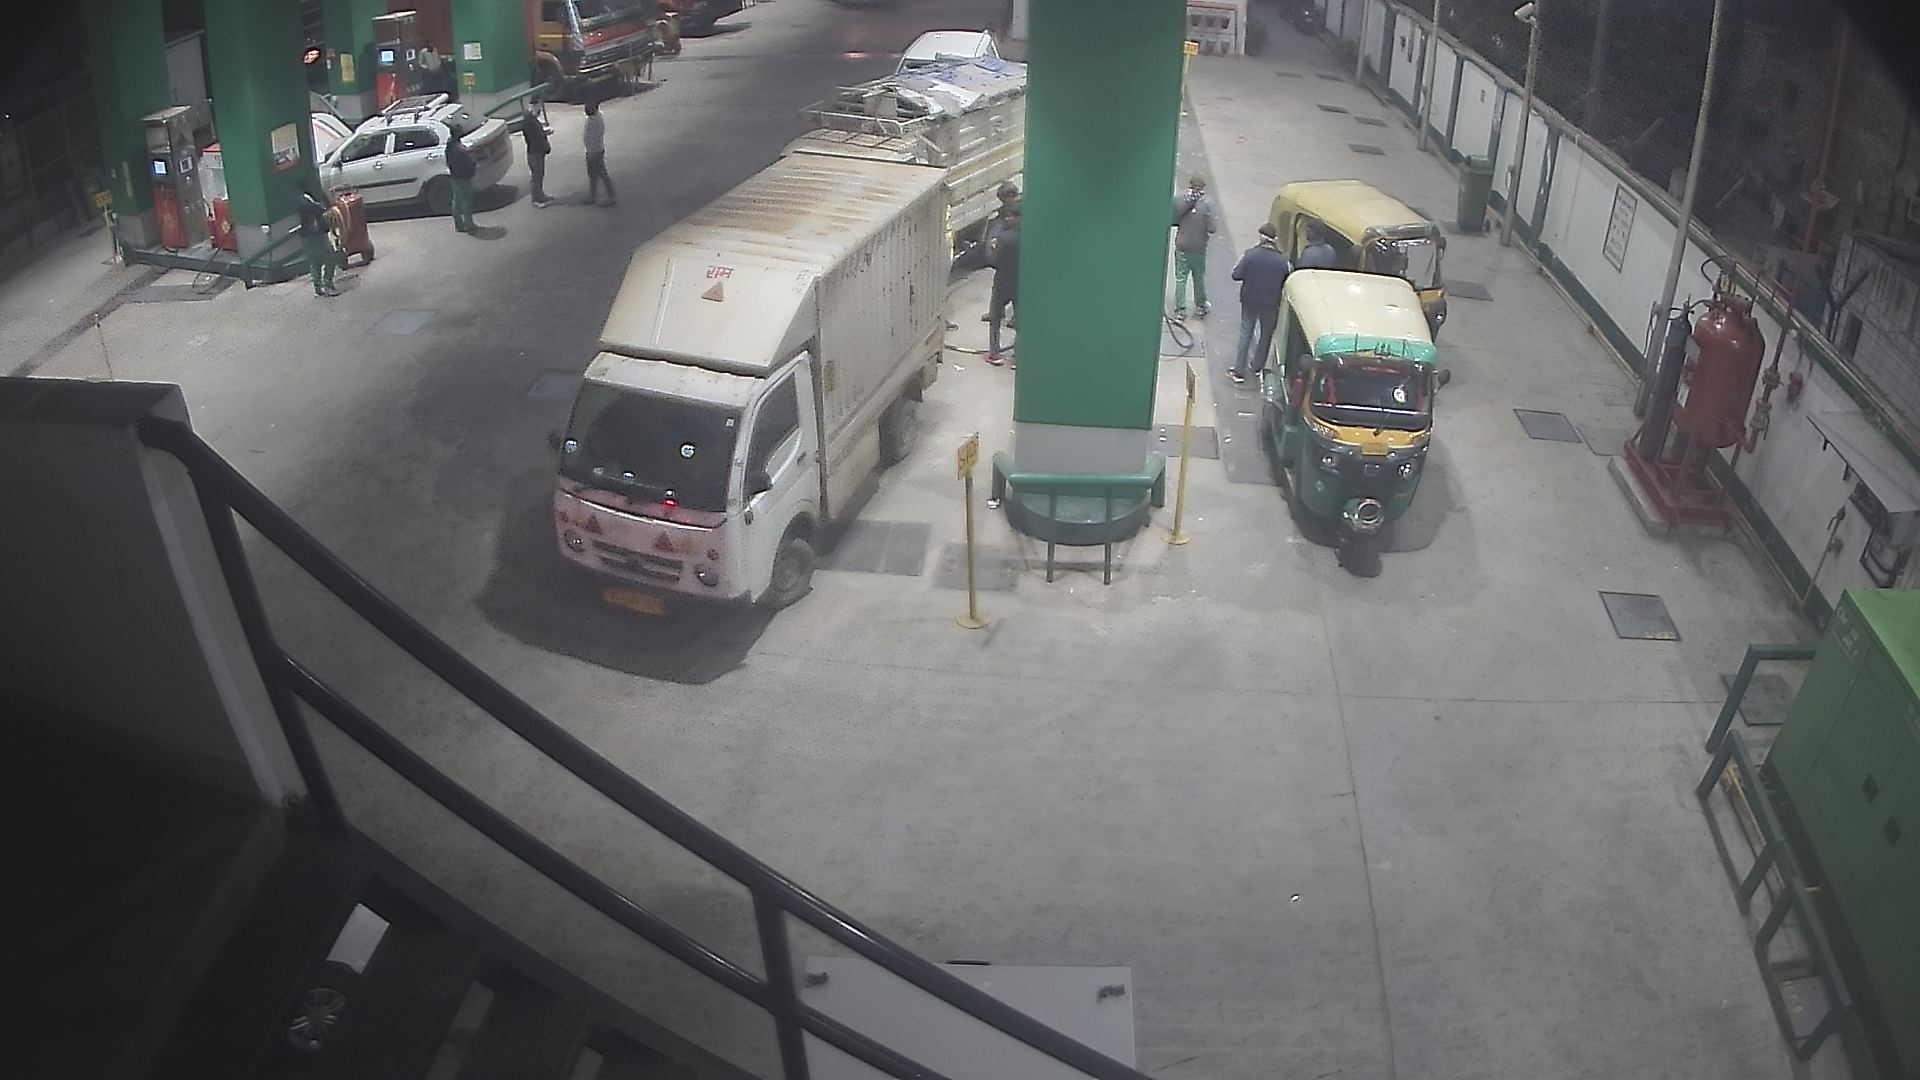Auto: (1245, 255, 1456, 580), (1259, 161, 1458, 353)
Car: (294, 80, 527, 243), (885, 24, 1009, 105), (806, 0, 930, 11)
HMV: (533, 140, 964, 641), (758, 38, 1030, 305), (509, 0, 679, 113), (641, 3, 762, 46)
Others Other: (1158, 342, 1215, 564), (944, 425, 1002, 640), (91, 182, 129, 285), (1172, 33, 1203, 131), (458, 66, 487, 117)
